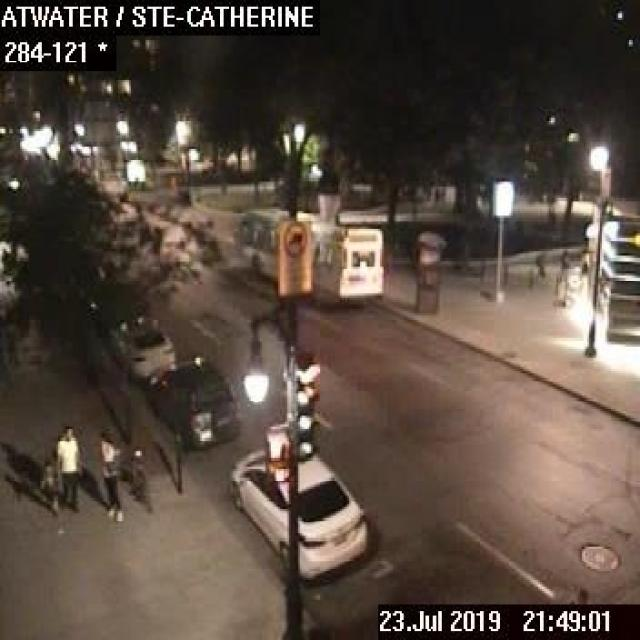bus: (227, 205, 382, 306)
pedestrian: (98, 431, 122, 520), (56, 422, 77, 511), (38, 457, 58, 514)
vehicle: (230, 446, 367, 584), (144, 356, 240, 446), (108, 315, 174, 381)
